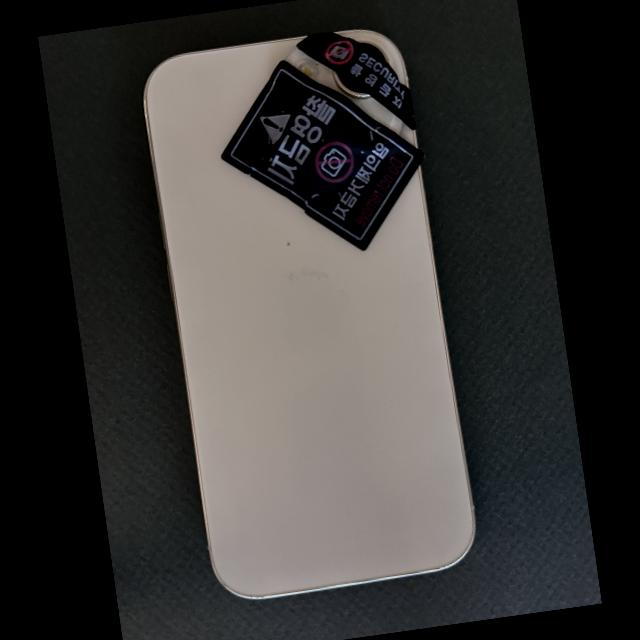lens: (332, 71, 369, 97)
phone: (143, 29, 476, 600)
sticker: (221, 60, 425, 251), (297, 31, 417, 131)
